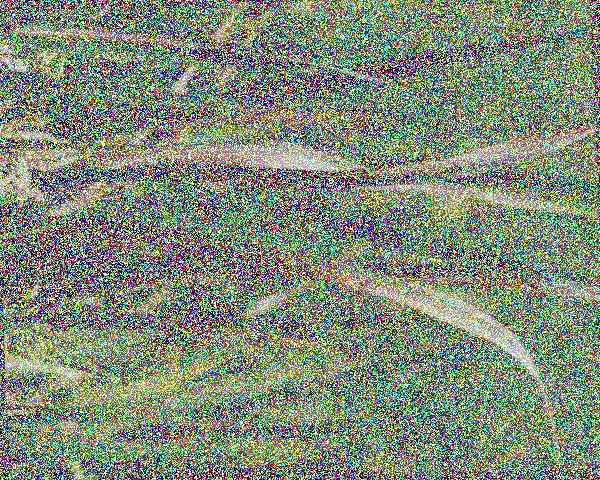Leaf_Blast: (53, 213, 441, 328), (363, 122, 592, 200), (13, 17, 277, 63)
